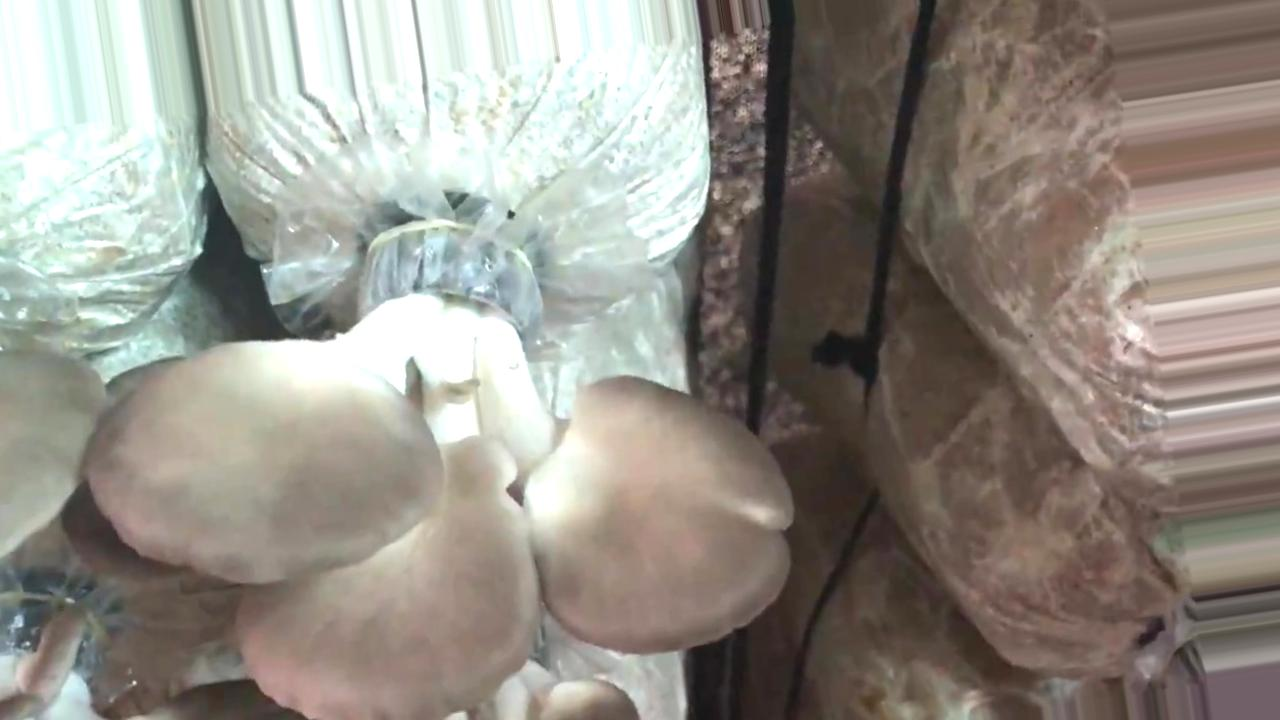nam: (93, 220, 795, 720), (1, 349, 107, 554), (443, 662, 639, 720)
